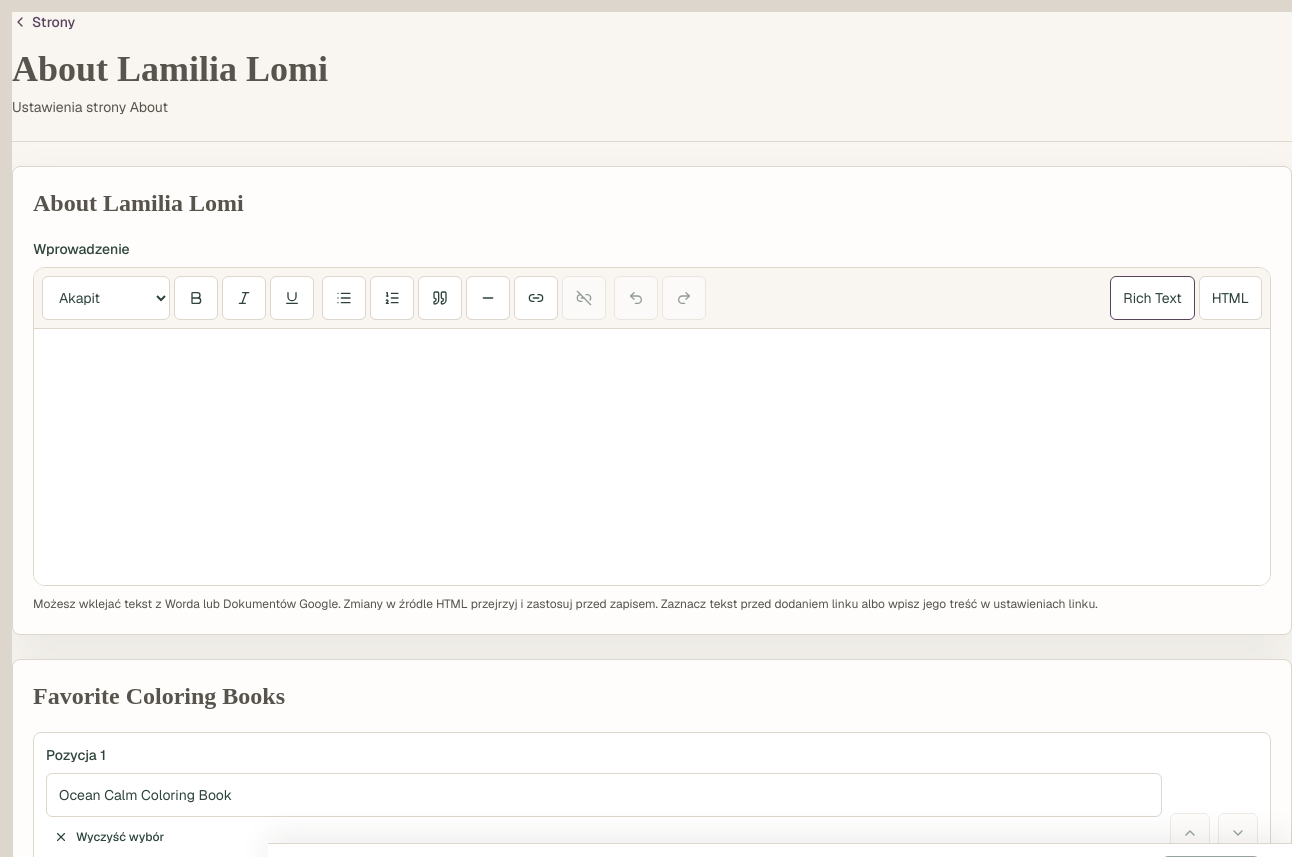
Test case: AboutPageEditor › closes a selected product list before Tab focuses its clear button
Click the dropdown named "Favorite Coloring Books, pozycja 1" at (604, 795), box [46,773,1162,817]
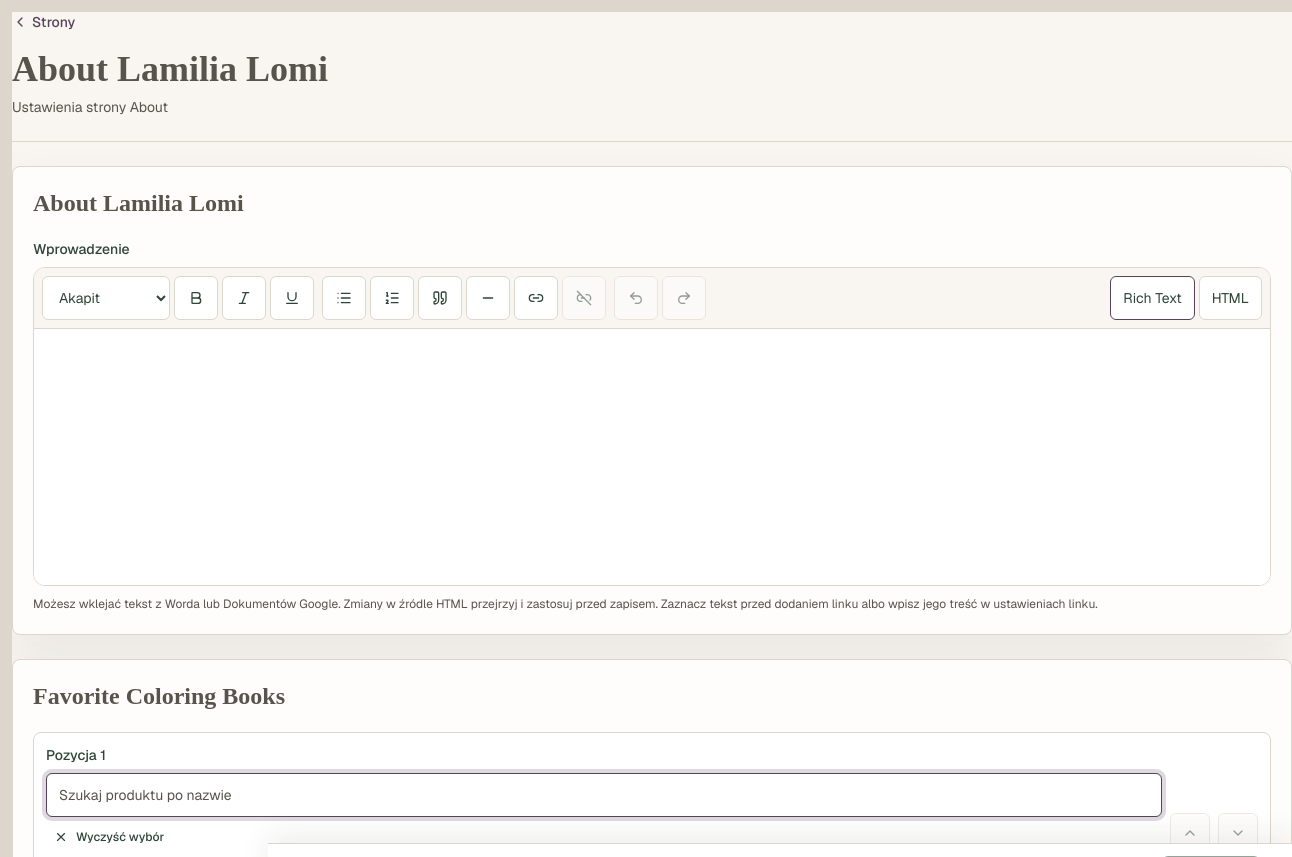
Expected: the dropdown named "Favorite Coloring Books, pozycja 1" is expanded, [46,773,1162,817]
Press Tab
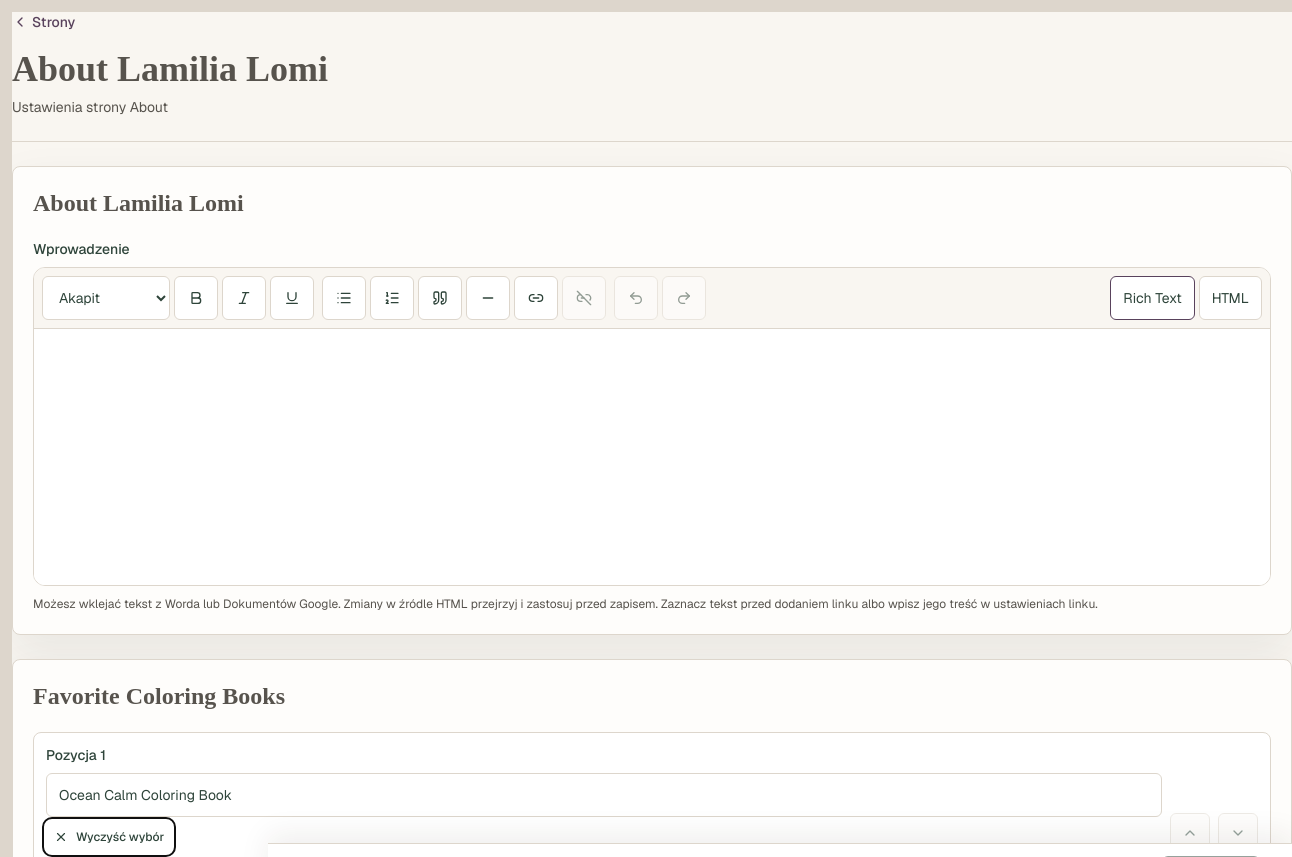
Expected: the dropdown named "Favorite Coloring Books, pozycja 1" is collapsed, [46,773,1162,817]
